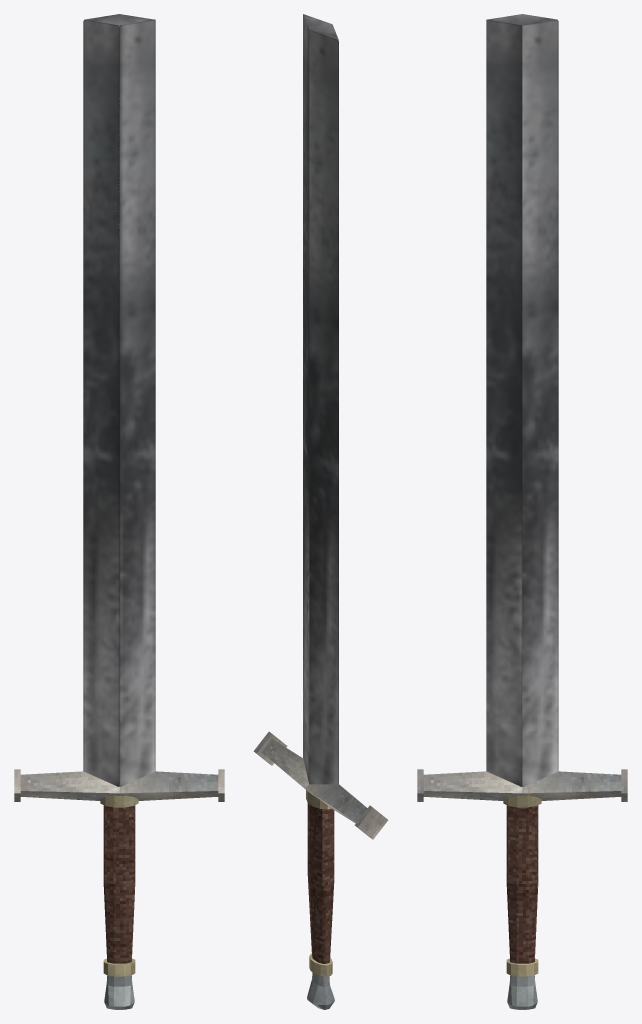
The model's file is executionersword.obj.
The picture shows the model from 3 angles, left to right: view 1: azimuth 90°, elevation 25°; view 2: azimuth 210°, elevation 25°; view 3: azimuth 270°, elevation 25°; orthographic projection.
Visible parts, largest first — view 1: blade_body, grip_1, guard_left_body, guard_right_body, grip_2, pommel_body_2; view 2: blade_body, grip_1, grip_2, guard_left_body, guard_right_body, guard_left_xtra, pommel_body_2, grip_ring_2; view 3: blade_body, grip_1, guard_left_body, guard_right_body, grip_2, pommel_body_2.
Boxes of the visible parts, x1=… form: blade_body: x1=83, y1=14, x2=155, y2=786; grip_1: x1=103, y1=805, x2=135, y2=883; guard_left_body: x1=20, y1=771, x2=119, y2=800; guard_right_body: x1=119, y1=771, x2=218, y2=800; grip_2: x1=103, y1=882, x2=135, y2=963; pommel_body_2: x1=104, y1=985, x2=134, y2=1006; blade_body: x1=303, y1=14, x2=338, y2=784; grip_1: x1=307, y1=803, x2=334, y2=885; grip_2: x1=307, y1=875, x2=334, y2=963; guard_left_body: x1=305, y1=784, x2=367, y2=823; guard_right_body: x1=262, y1=739, x2=309, y2=788; guard_left_xtra: x1=354, y1=805, x2=387, y2=839; pommel_body_2: x1=307, y1=979, x2=334, y2=1004; grip_ring_2: x1=309, y1=953, x2=332, y2=976; blade_body: x1=486, y1=14, x2=558, y2=787; grip_1: x1=506, y1=805, x2=538, y2=883; guard_left_body: x1=522, y1=771, x2=621, y2=800; guard_right_body: x1=423, y1=771, x2=522, y2=800; grip_2: x1=506, y1=882, x2=538, y2=963; pommel_body_2: x1=507, y1=985, x2=537, y2=1006.
Size of the model in its own units: 0.7071 by 21.44 by 4.12.
Materials: 6 (6 with a texture image).
